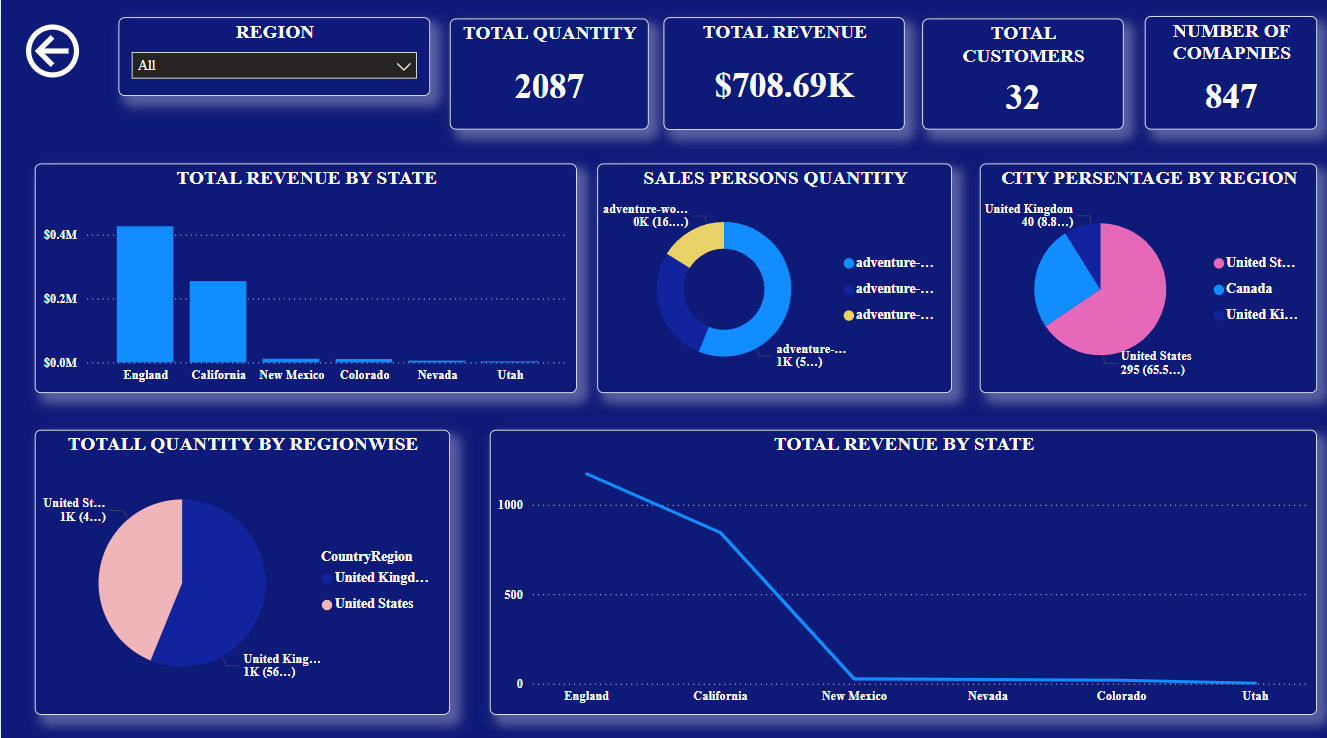

Layout of this report page (visuals, bound fields, positions):
{"tool":"powerbi","page":{"name":"REGION","canvas":[1280,720],"ordinal":1},"visuals":[{"type":"actionButton","box":[0,21.7,100.1,62.7],"z":0},{"type":"slicer","title":"REGION","fields":{"Values":["SalesLT Address.CountryRegion"]},"box":[113.4,20.5,300.4,76],"z":1000},{"type":"card","title":"TOTAL QUANTITY","fields":{"Values":["SalesLT SalesOrderDetail.OTAL_QUANTITY"]},"box":[433.1,21.7,191.8,107.4],"z":2000},{"type":"card","title":"TOTAL REVENUE","fields":{"Values":["SalesLT SalesOrderDetail.TOTAL_REVENUE"]},"box":[639.4,20.5,232.8,108.6],"z":2001},{"type":"card","title":"TOTAL CUSTOMERS","fields":{"Values":["SalesLT SalesOrderHeader.Numberofcustomers"]},"box":[889.1,21.7,194.2,107.4],"z":2002},{"type":"lineClusteredColumnComboChart","title":"TOTAL REVENUE BY STATE","fields":{"Category":["SalesLT Address.StateProvince"],"Y":["SalesLT SalesOrderDetail.TOTAL_REVENUE"]},"box":[32.6,161.7,523.6,222],"z":2003},{"type":"pieChart","title":"TOTALL QUANTITY BY REGIONWISE","fields":{"Y":["SalesLT SalesOrderDetail.OTAL_QUANTITY"],"Category":["SalesLT Address.CountryRegion"]},"box":[32.6,418.6,400.5,275.1],"z":2004},{"type":"donutChart","title":"SALES PERSONS QUANTITY","fields":{"Category":["SalesLT Customer.SalesPerson"],"Y":["SalesLT SalesOrderDetail.OTAL_QUANTITY"]},"box":[575.5,161.7,342.6,222],"z":2005},{"type":"card","title":"NUMBER OF COMAPNIES","fields":{"Values":["SalesLT Customer.TOTAL_COMPANY"]},"box":[1103.9,19.3,166.5,109.8],"z":2006},{"type":"pieChart","title":"CITY PERSENTAGE BY REGION","fields":{"Y":["CountNonNull(SalesLT Address.City)"],"Category":["SalesLT Address.CountryRegion"]},"box":[944.6,161.7,325.7,222],"z":2007},{"type":"lineChart","title":"TOTAL REVENUE BY STATE","fields":{"Category":["SalesLT Address.StateProvince"],"Y":["SalesLT SalesOrderDetail.OTAL_QUANTITY"]},"box":[471.7,418.6,798.7,275.1],"z":2008}]}

Visuals, with their boxes in screenshot pixels (x1, y1, x2, y2), scaled from the page's 1280x720 canvas onto the 1327x738 screenshot:
actionButton: bbox(0, 22, 104, 87)
"REGION" slicer: bbox(118, 21, 429, 99)
"TOTAL QUANTITY" card: bbox(449, 22, 648, 132)
"TOTAL REVENUE" card: bbox(663, 21, 904, 132)
"TOTAL CUSTOMERS" card: bbox(922, 22, 1123, 132)
"TOTAL REVENUE BY STATE" lineClusteredColumnComboChart: bbox(34, 166, 577, 393)
"TOTALL QUANTITY BY REGIONWISE" pieChart: bbox(34, 429, 449, 711)
"SALES PERSONS QUANTITY" donutChart: bbox(597, 166, 952, 393)
"NUMBER OF COMAPNIES" card: bbox(1144, 20, 1317, 132)
"CITY PERSENTAGE BY REGION" pieChart: bbox(979, 166, 1317, 393)
"TOTAL REVENUE BY STATE" lineChart: bbox(489, 429, 1317, 711)
